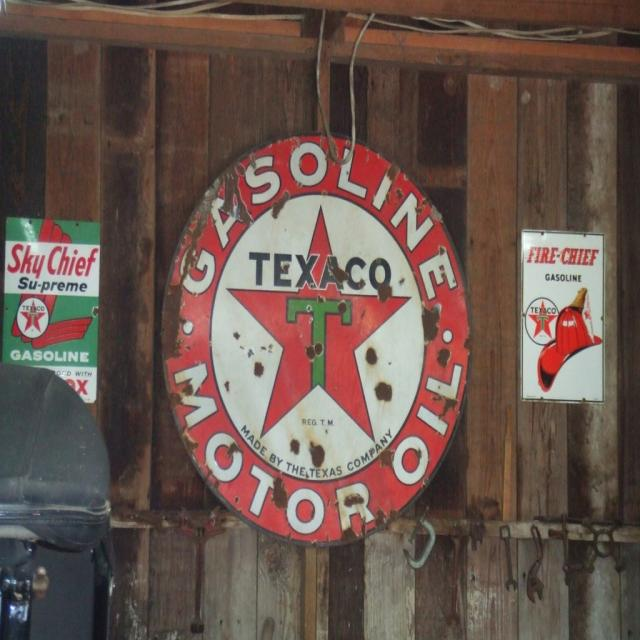texaco: (210, 195, 428, 486), (525, 299, 560, 345), (16, 299, 50, 340)
